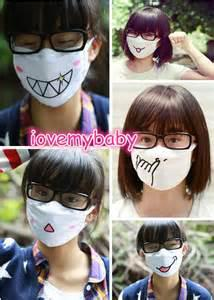OK: (15, 29, 89, 103), (27, 182, 90, 247), (133, 127, 194, 190), (146, 235, 184, 276), (127, 26, 162, 60)
